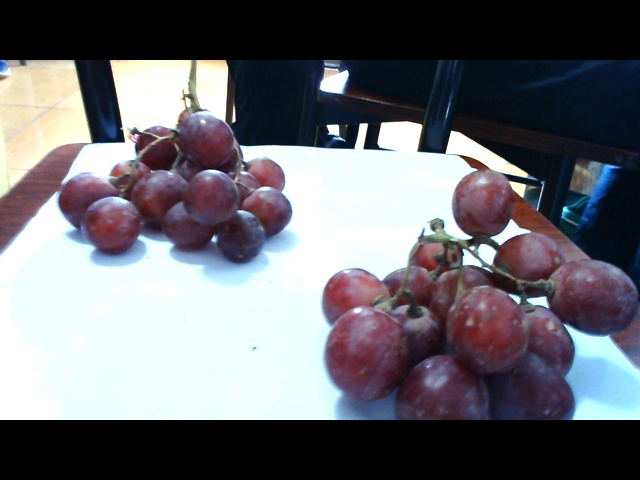grape: (314, 180, 627, 430), (76, 98, 303, 271)
